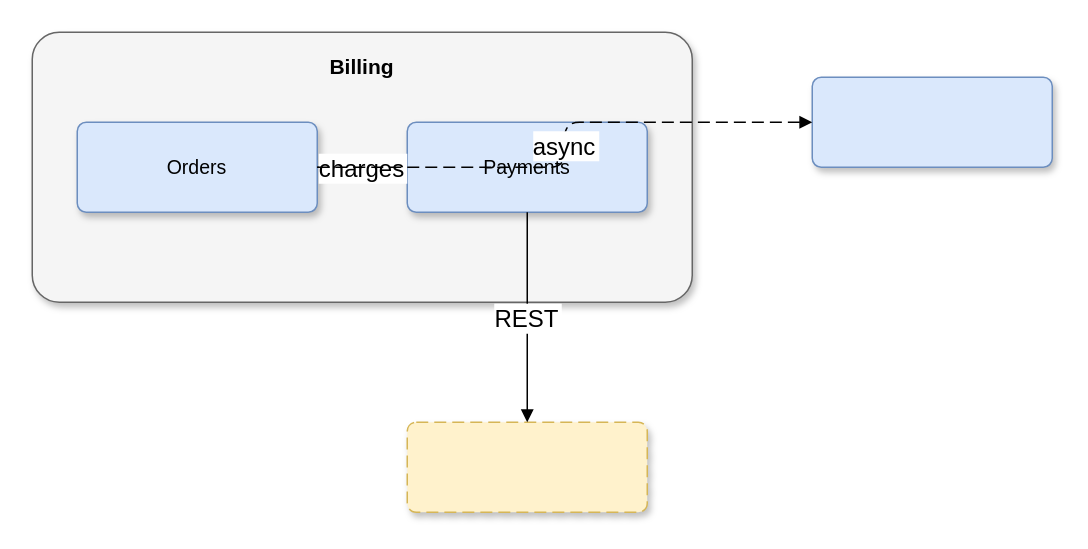
Some shapes in this 1088 by 549 pixel diagram are drawn without their labels. Here are the shapes that lost their labels. From the top down, the centre of each, then its label:
At pixel 933 124: "Notifications".
At pixel 528 469: "Payment Gateway".
